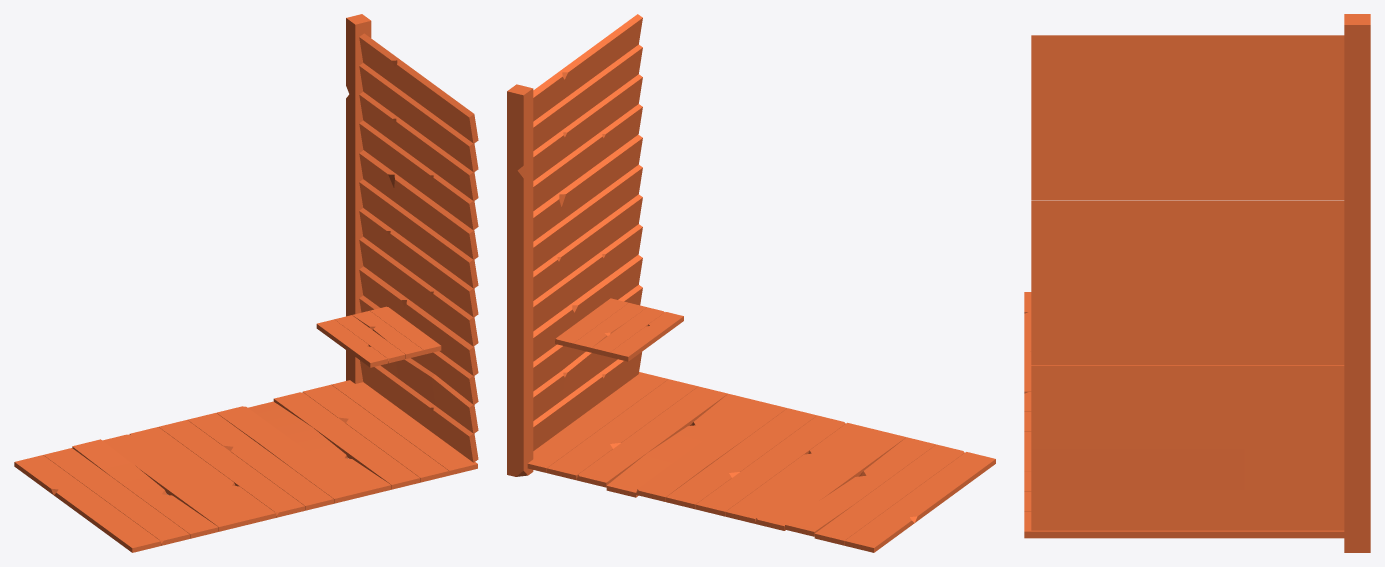
Rendered from Terrain1.fbx.
The picture shows the model from 3 angles, left to right: view 1: azimuth 30°, elevation 25°; view 2: azimuth 150°, elevation 25°; view 3: azimuth 270°, elevation 25°; orthographic projection. The views are drawn at different scales.
Visible parts, largest first — view 1: Sześcian.001, Sześcian.025, Sześcian.016, Sześcian.023; view 2: Sześcian.001, Sześcian.025, Sześcian.016, Sześcian.023; view 3: Sześcian.025, Sześcian.016, Sześcian.001.
Part boxes in pixels (left/top/right/bottom): Sześcian.001: left=14, top=380, right=477, bottom=552; Sześcian.025: left=359, top=33, right=478, bottom=462; Sześcian.016: left=346, top=14, right=371, bottom=383; Sześcian.023: left=316, top=306, right=441, bottom=367; Sześcian.001: left=527, top=372, right=995, bottom=552; Sześcian.025: left=533, top=14, right=642, bottom=450; Sześcian.016: left=507, top=84, right=533, bottom=476; Sześcian.023: left=555, top=298, right=683, bottom=361; Sześcian.025: left=1031, top=35, right=1344, bottom=530; Sześcian.016: left=1344, top=14, right=1370, bottom=552; Sześcian.001: left=1024, top=292, right=1344, bottom=538.
Size of the model in its own units: 4383 by 4425 by 2630.
